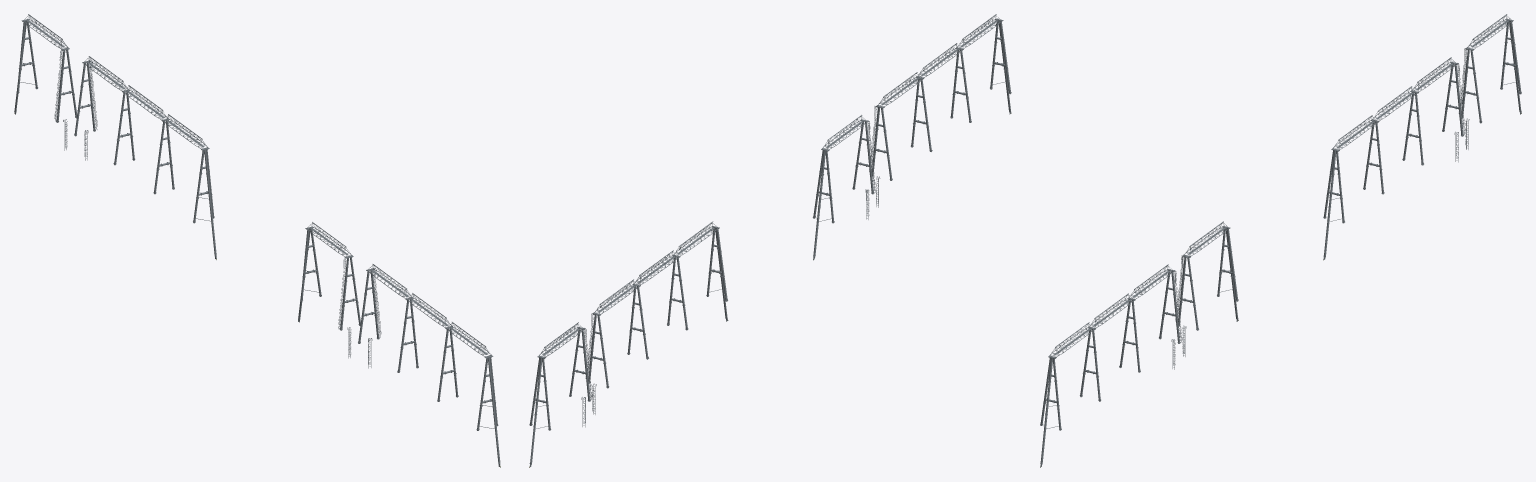
The model's file is LMJ.glb.
3 renders of one model, left to right at view 1: azimuth 30°, elevation 25°; view 2: azimuth 150°, elevation 25°; view 3: azimuth 330°, elevation 25°, orthographic.
Parts seen in each view (by area): view 1: SM_110KV_LMJ_01; view 2: SM_110KV_LMJ_01; view 3: SM_110KV_LMJ_01.
Part boxes in pixels (left/top/right/bottom): SM_110KV_LMJ_01: left=14, top=14, right=500, bottom=467; SM_110KV_LMJ_01: left=529, top=14, right=1011, bottom=467; SM_110KV_LMJ_01: left=1040, top=14, right=1521, bottom=467.
Bounding box in the file's own units: 8.23 × 34.62 × 275.
3 materials, 3 textured.
